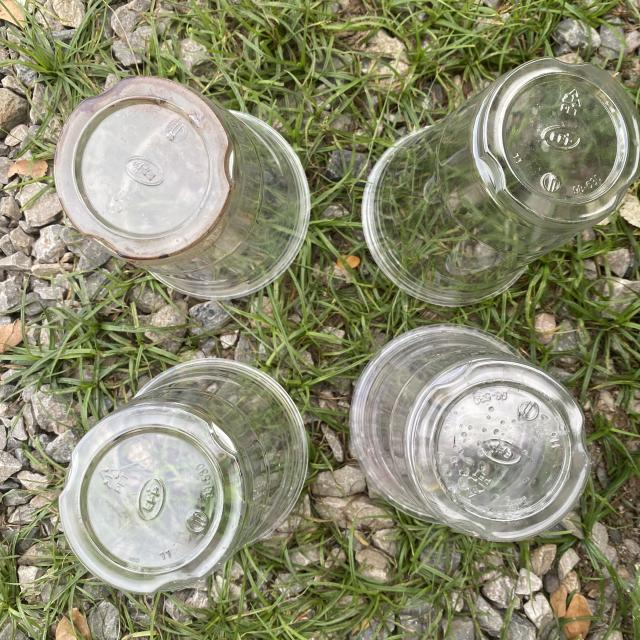plastik: (362, 58, 640, 306), (59, 359, 308, 594), (55, 76, 310, 300), (350, 324, 590, 541)
